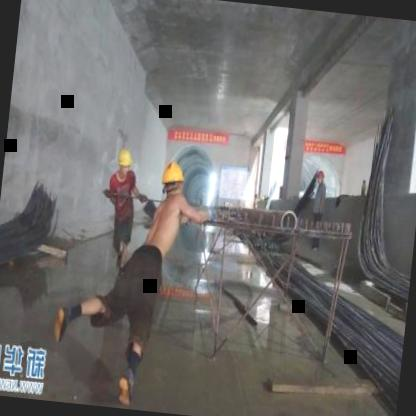helmet: (158, 158, 186, 206), (115, 144, 136, 178)
